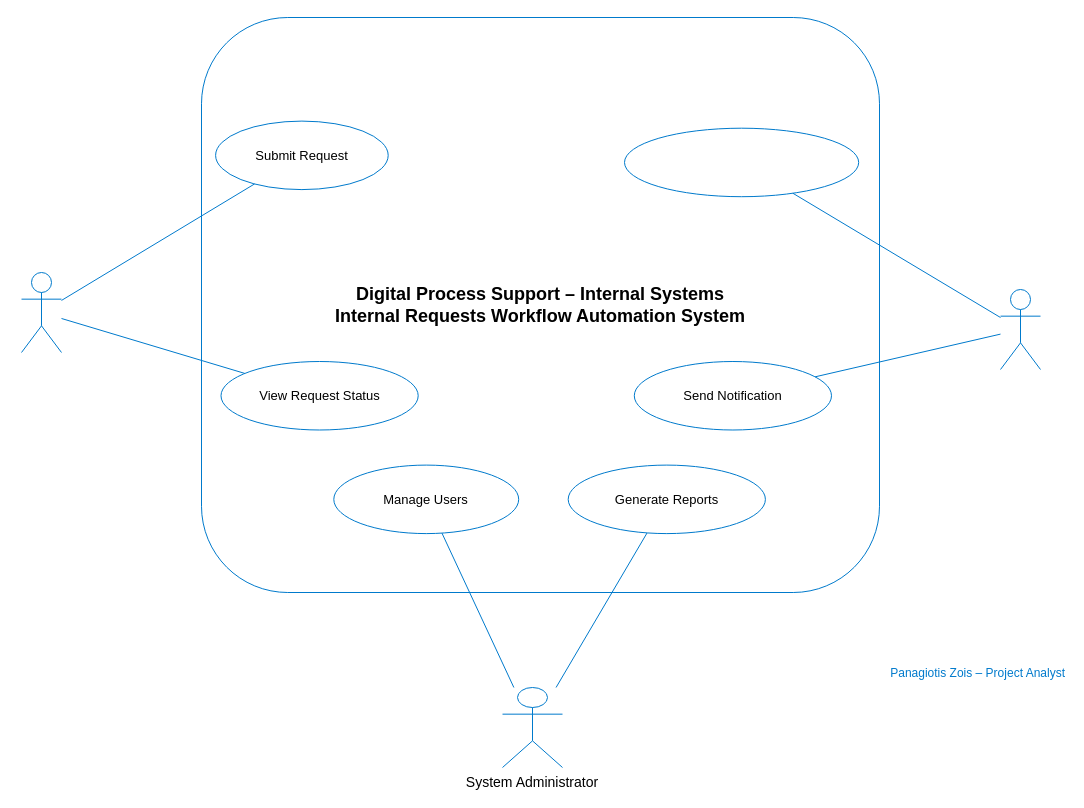
Image size: 1084x808. Some labels were removed from this diagram. Here are the shapes that lost their labels. From the top down, the centre of each, then its label:
At pixel 741 162: "Approve/Reject Request".
At pixel 41 312: "Student".
At pixel 1020 329: "Secretariat".
